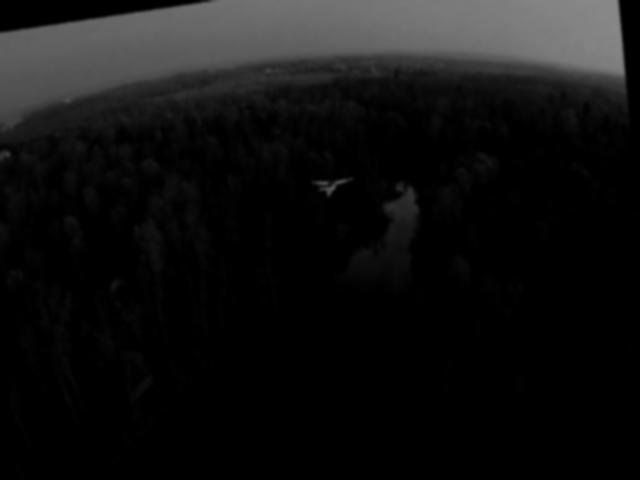hedef: (305, 169, 360, 211)
